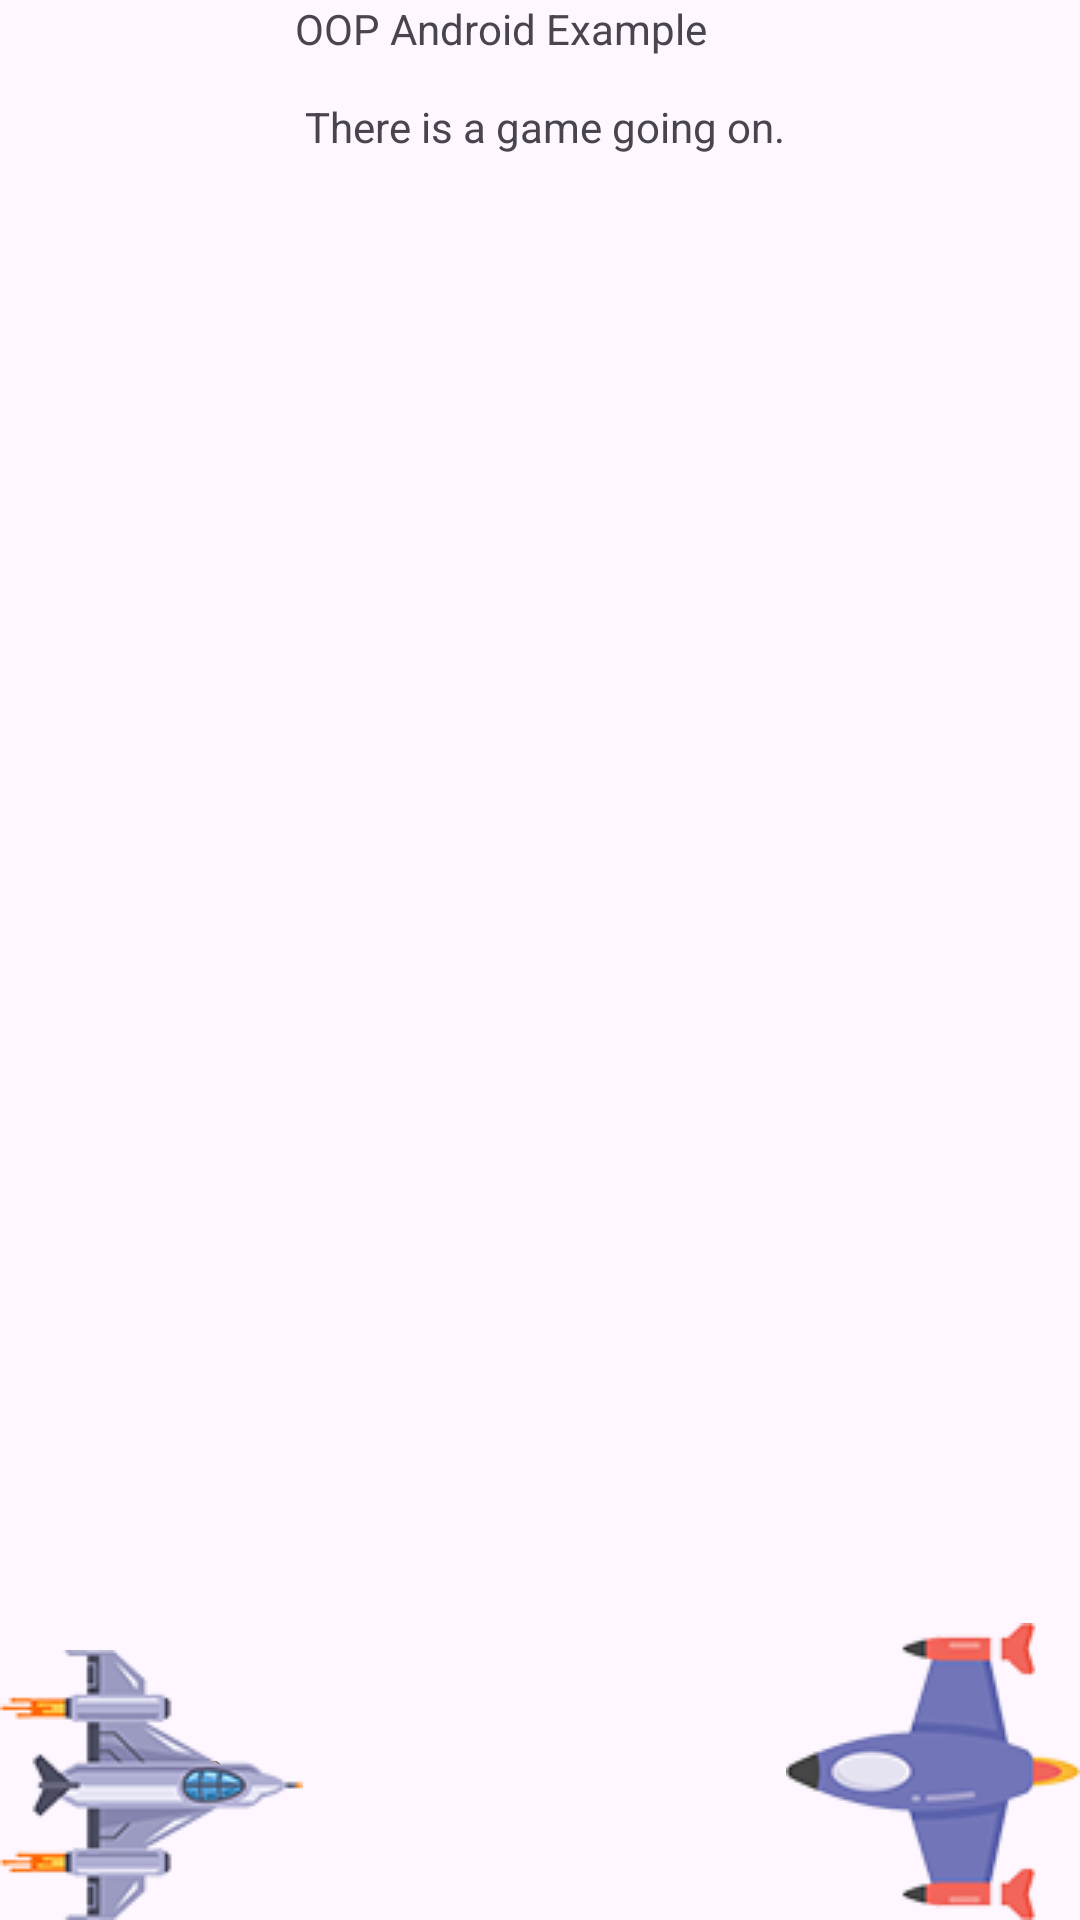

Icon bounding boxes for this 1080px x 1920px phone screenshot, format (x1, y1, x2, y2):
alien ship: (786, 1623, 1080, 1920), (0, 1650, 303, 1920)
